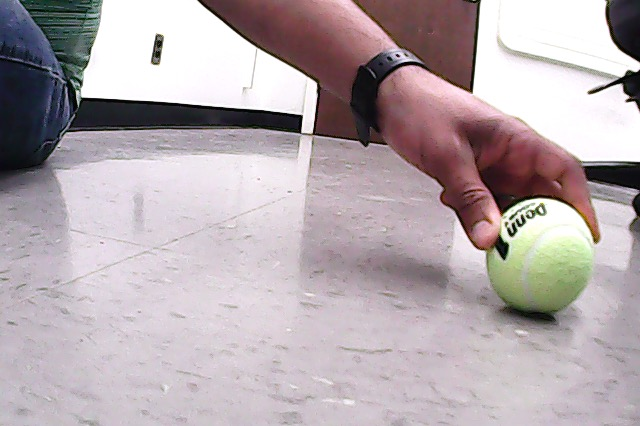ball: (487, 198, 594, 314)
